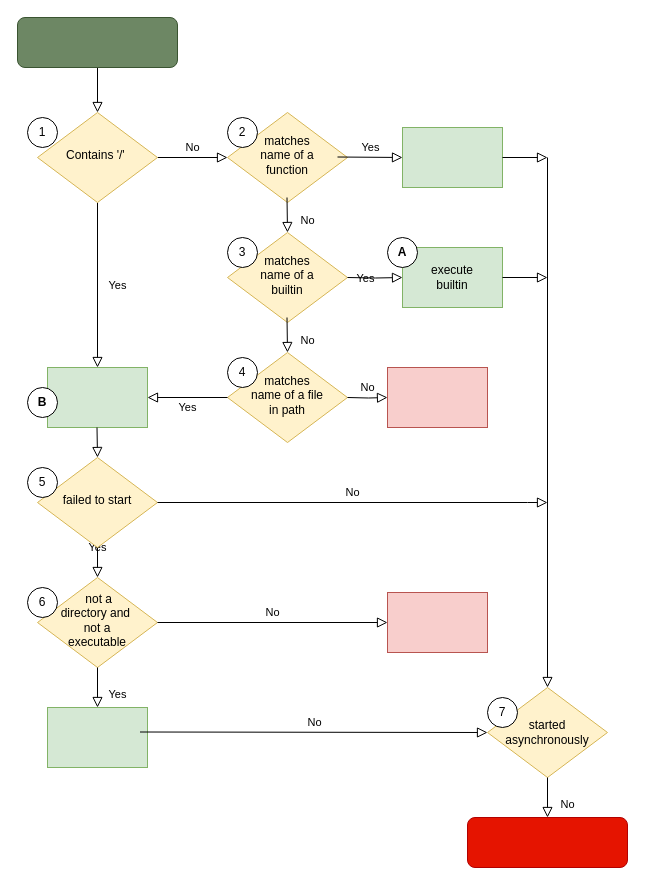
Image size: 645x885. Some labels were removed from this diagram. The shapes that lost their labels are listed below. From the top down, each one's centre as x and y in pixels, then its label:
point (97, 42): Command Name
point (452, 157): execute function
point (97, 397): request kernel to execute as external command
point (437, 397): print error "not found"
point (437, 622): print error
point (97, 737): execute as a shell script
point (547, 842): Wait for command to exit and gather exit status
